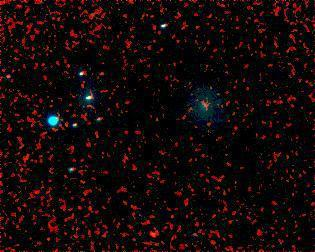star: (136, 221, 166, 251)
